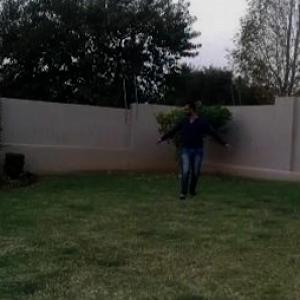land: (152, 75, 241, 216)
